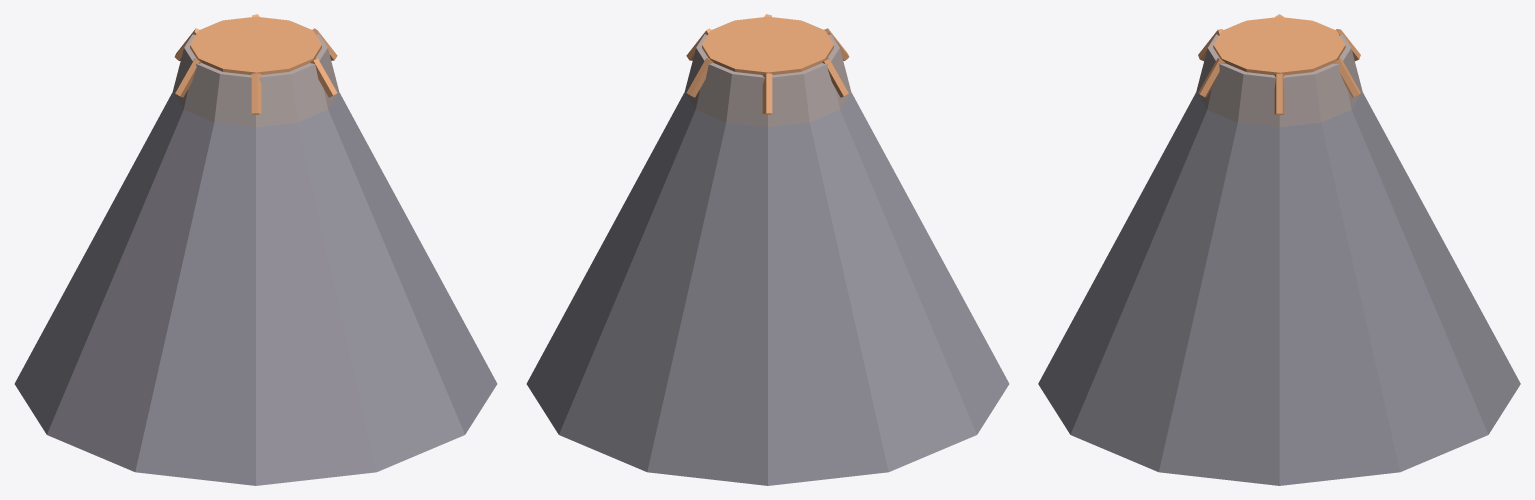
File: volcan.glb
The picture shows the model from 3 angles, left to right: view 1: azimuth 30°, elevation 25°; view 2: azimuth 150°, elevation 25°; view 3: azimuth 270°, elevation 25°; orthographic projection.
Parts seen in each view (by area): view 1: volcan; view 2: volcan; view 3: volcan.
Boxes of the visible parts, x1=… form: volcan: x1=14, y1=14, x2=497, y2=485; volcan: x1=526, y1=14, x2=1009, y2=485; volcan: x1=1038, y1=14, x2=1520, y2=485.
Size of the model in its own units: 8.4 by 6.53 by 8.4.
